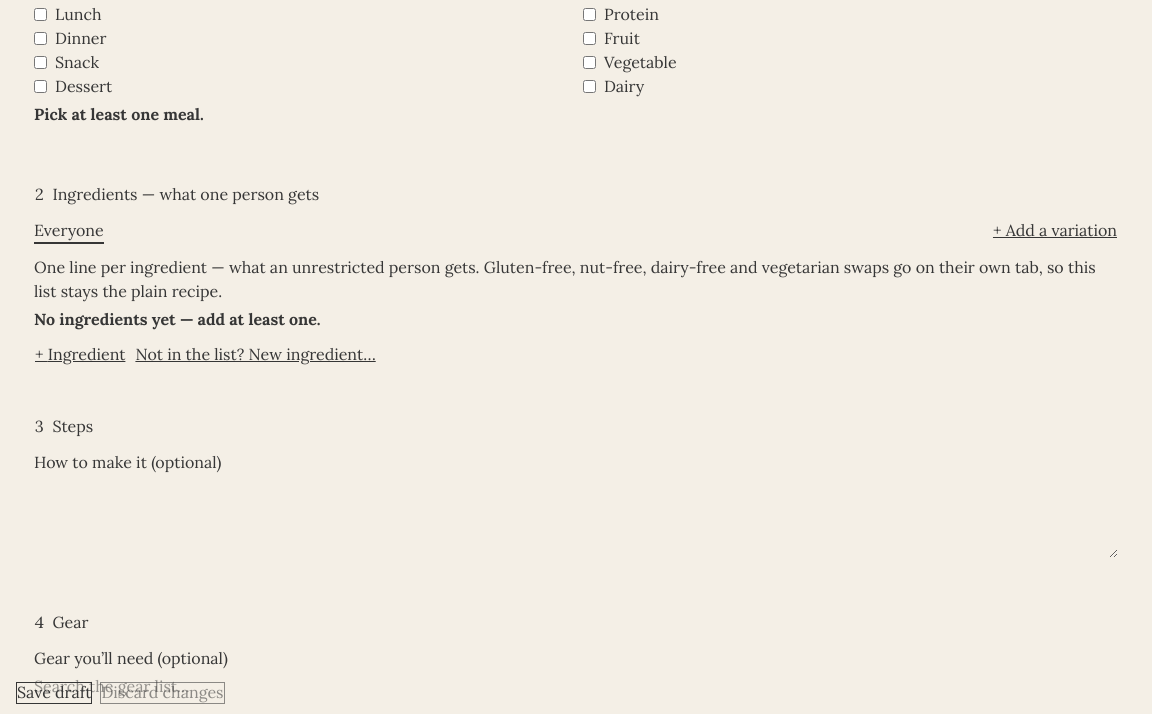
Food & recipes — a single food › Leader_AddsAnIngredient_FromInsideARecipe
The width and height of the screenshot is (1152, 714).
(page scrolled)
Click the button "Not in the list? New ingredient…".
click(256, 355)  # box [134,344,377,365]
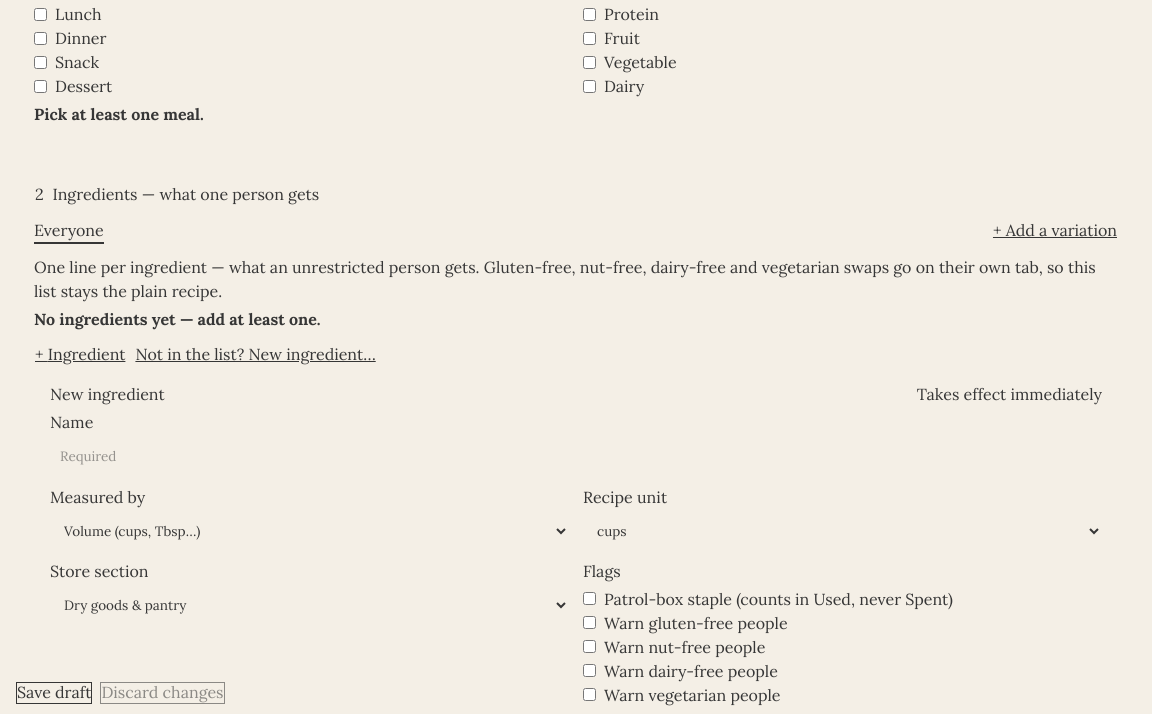
Type "Sprinkles" into the field labelled "Name".
click(576, 457); type("Sprinkles")  # box [50,438,1102,475]
(page scrolled)
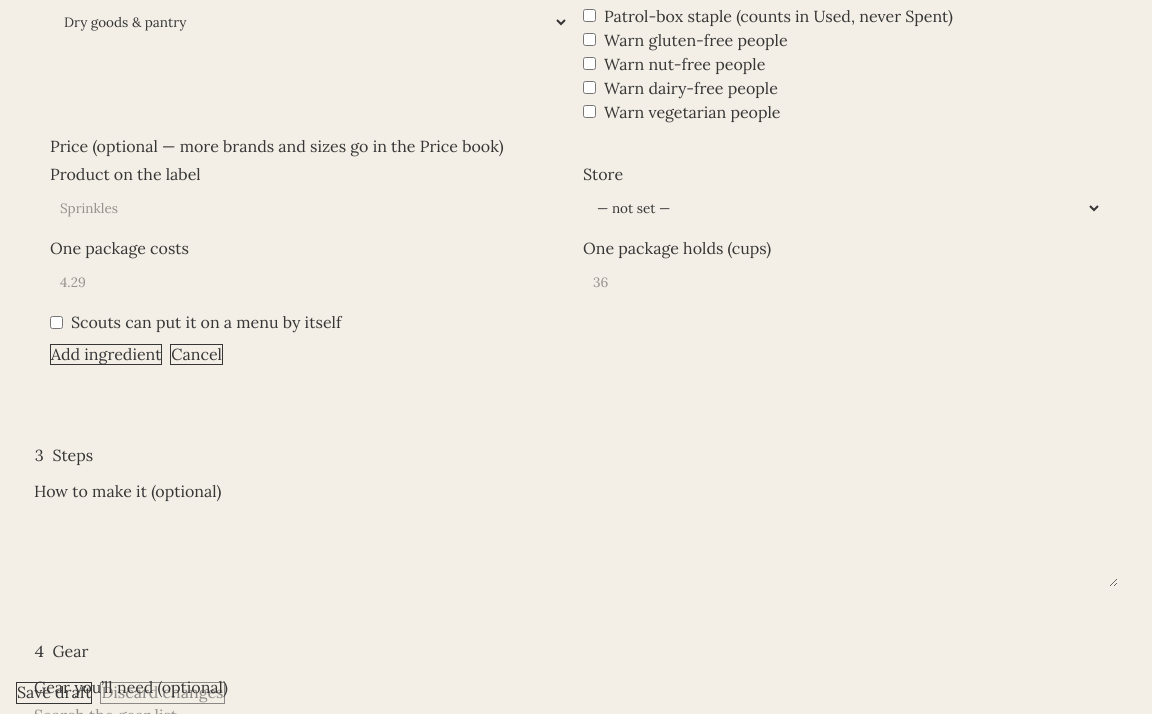
Click the button "Add ingredient".
click(106, 355)  # box [50,344,162,365]
(page scrolled)
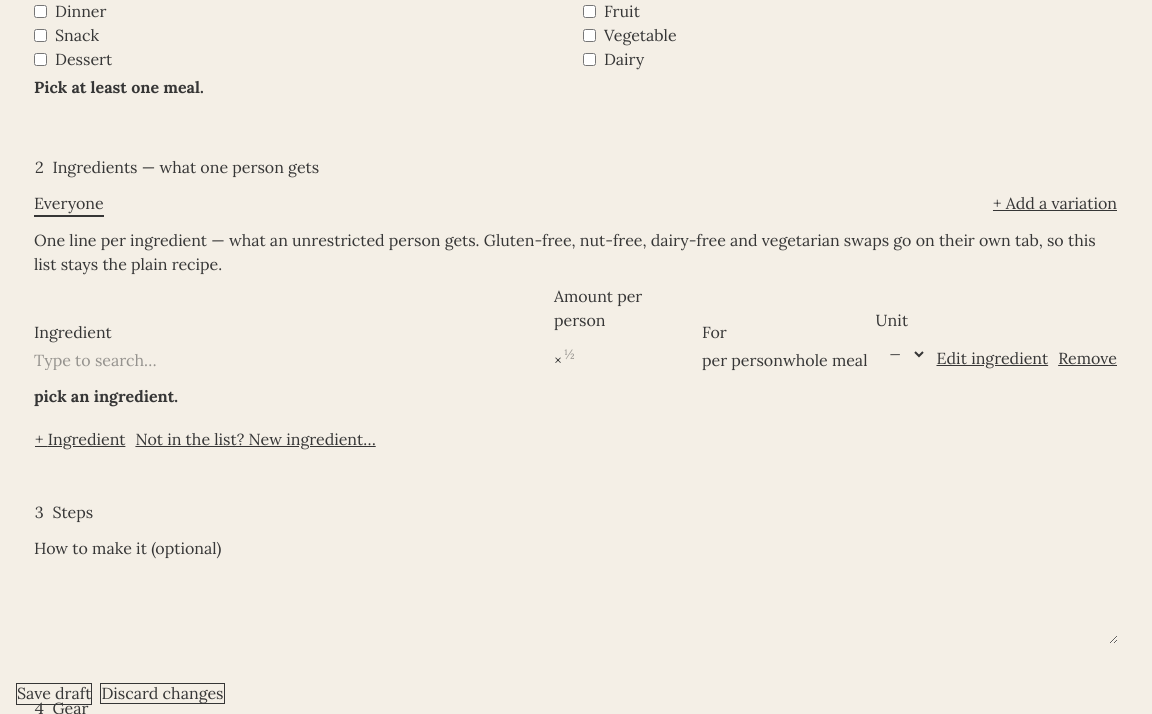
expect the field named "Line 1 amount" is shown: met, box [554,336,694,372]
